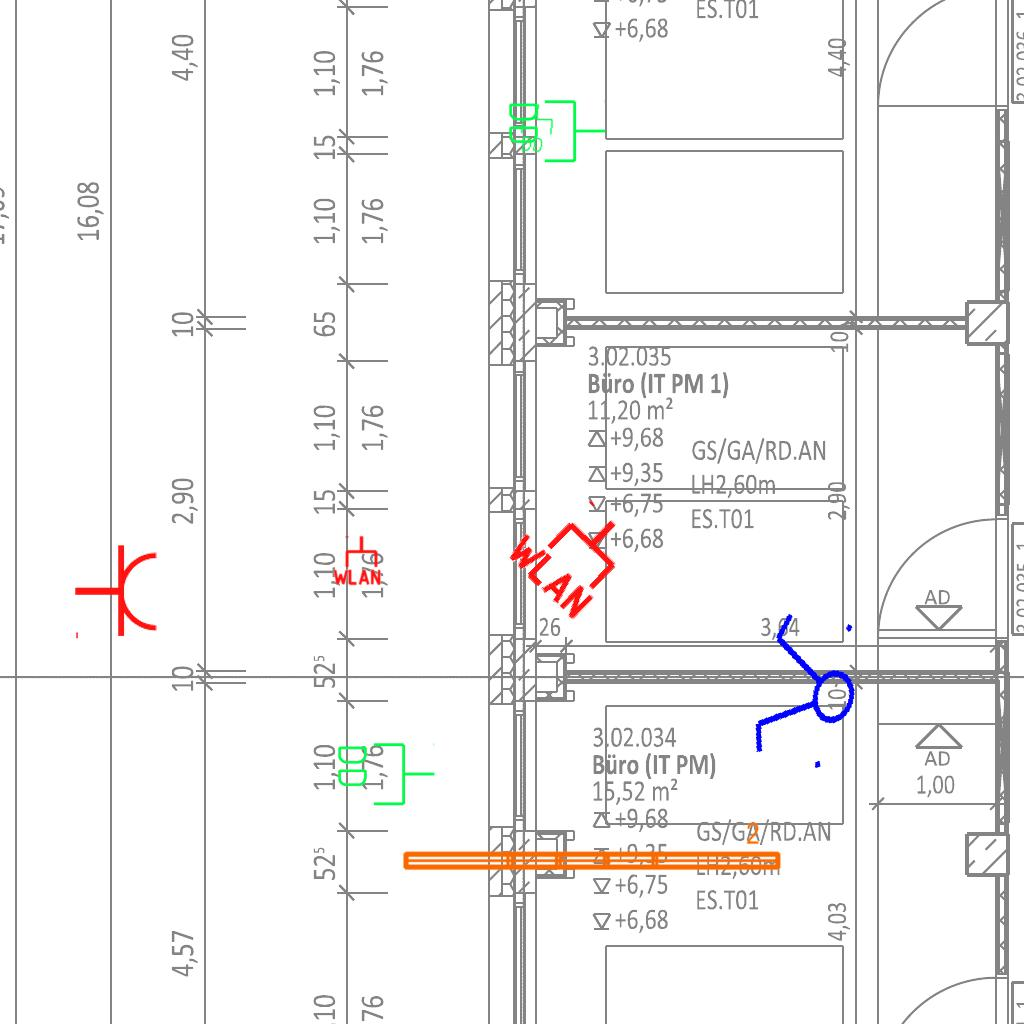Ambulanz_Pendelleuchte_LED: (398, 820, 785, 876)
Datenanschluss_zweifach: (505, 96, 608, 165), (334, 739, 437, 808), (518, 101, 555, 155)
Schukosteckdose_einfach: (73, 543, 160, 643)
Serienschalter: (742, 599, 874, 785)
WLAN: (499, 477, 648, 625), (331, 534, 383, 586)
